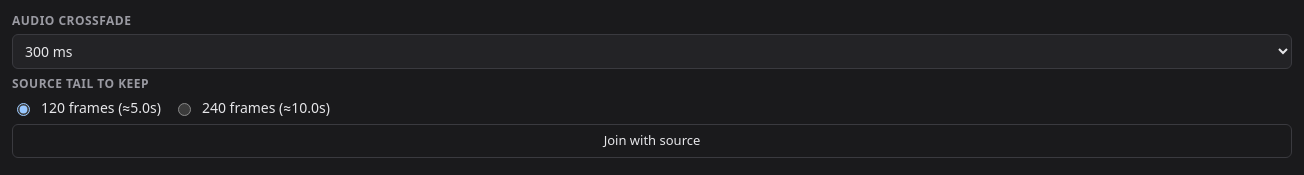
it: JoinControls › V2V Join note: project fps matches video fps -> normalized note without advice
Step 1. Click the button "Join with source" → (652, 141), box [12,124,1292,158]
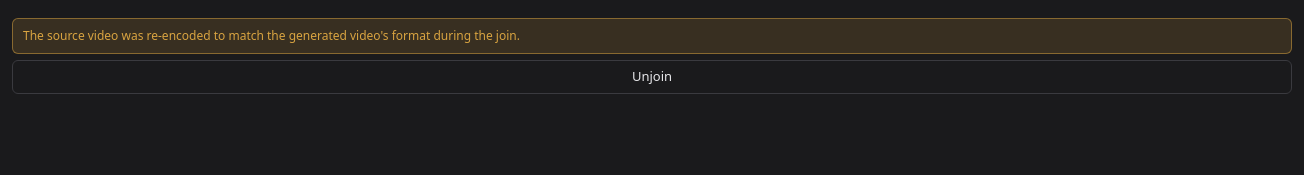
Expected: the text "re-encoded" is shown, [23,27,520,44]
